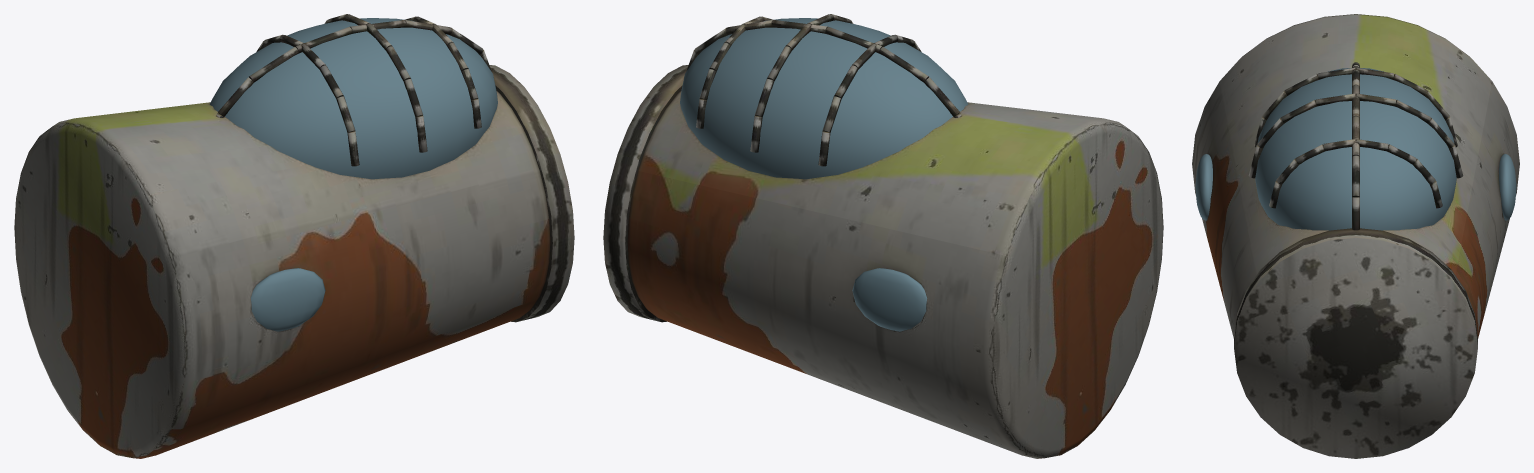
Rendered from turret_kit_tail_cabin_rust.glb.
3 views of the same model, side by side, from view 1: azimuth 30°, elevation 25°; view 2: azimuth 150°, elevation 25°; view 3: azimuth 270°, elevation 25° (orthographic). The views are drawn at different scales.
Visible parts, largest first — view 1: turret_tail_cabin; view 2: turret_tail_cabin; view 3: turret_tail_cabin.
Part boxes in pixels (box(x1,y1,x2,y2)): turret_tail_cabin: box(14, 14, 574, 458); turret_tail_cabin: box(603, 14, 1163, 458); turret_tail_cabin: box(1192, 14, 1519, 458).
Bounding box in the file's own units: 1.14 × 0.9506 × 0.8335.
Materials: 2 (1 with a texture image).
